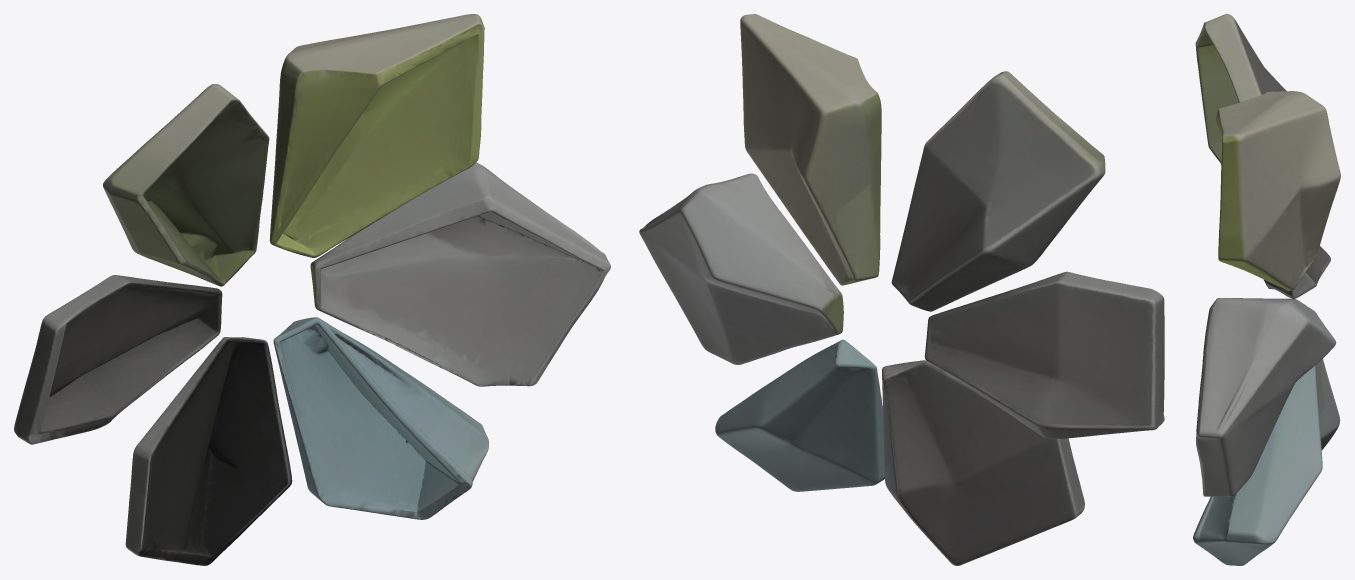
Rendered from archive-flower.glb.
3 views of the same model, side by side, from view 1: azimuth 30°, elevation 25°; view 2: azimuth 150°, elevation 25°; view 3: azimuth 270°, elevation 25° (orthographic). The views are drawn at different scales.
Parts seen in each view (by area): view 1: tripo_node_44a36090-cdbc-4045-94c9-dde2aad888ba; view 2: tripo_node_44a36090-cdbc-4045-94c9-dde2aad888ba; view 3: tripo_node_44a36090-cdbc-4045-94c9-dde2aad888ba.
Part boxes in pixels (x1,y1,x2,y2): tripo_node_44a36090-cdbc-4045-94c9-dde2aad888ba: (14, 14, 610, 565); tripo_node_44a36090-cdbc-4045-94c9-dde2aad888ba: (639, 14, 1164, 565); tripo_node_44a36090-cdbc-4045-94c9-dde2aad888ba: (1193, 14, 1340, 565).
Bounding box in the file's own units: 0.9799 × 0.8287 × 0.2364.
1 material, 1 textured.
